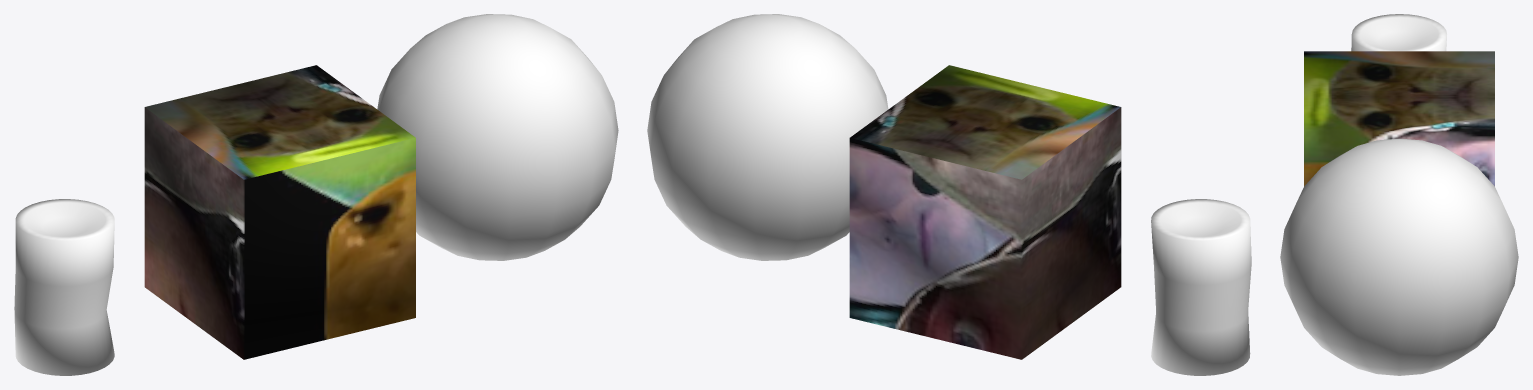
Rendered from testing.gltf.
3 renders of one model, left to right at view 1: azimuth 30°, elevation 25°; view 2: azimuth 150°, elevation 25°; view 3: azimuth 270°, elevation 25°, orthographic. The views are drawn at different scales.
Parts seen in each view (by area): view 1: Crate, Sphere, Barrel; view 2: Crate, Sphere, Barrel; view 3: Sphere, Crate, Barrel.
Part boxes in pixels (bbox=[...]): Crate: bbox=[144, 65, 415, 359]; Sphere: bbox=[377, 14, 618, 260]; Barrel: bbox=[14, 199, 114, 375]; Crate: bbox=[849, 65, 1121, 359]; Sphere: bbox=[647, 14, 888, 260]; Barrel: bbox=[1151, 199, 1251, 375]; Sphere: bbox=[1280, 138, 1518, 375]; Crate: bbox=[1304, 51, 1494, 186]; Barrel: bbox=[1351, 14, 1446, 51].
Size of the model in its own units: 13.52 by 5 by 5.
3 materials, 1 textured.
